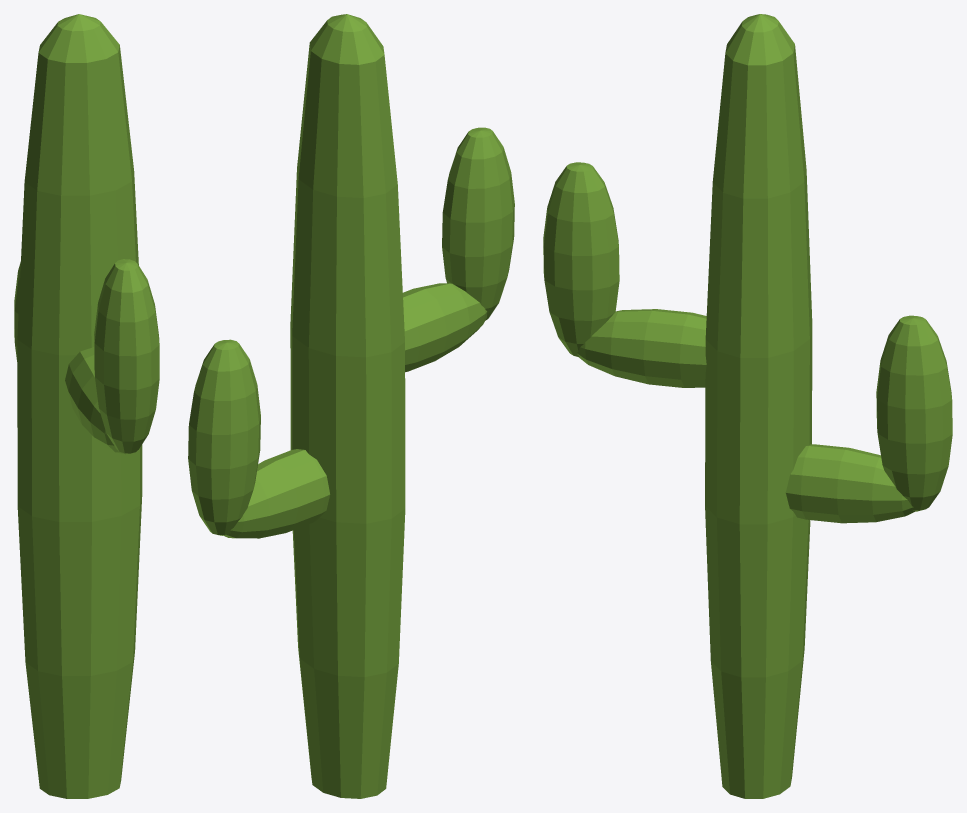
The picture shows the model from 3 angles, left to right: view 1: azimuth 30°, elevation 25°; view 2: azimuth 150°, elevation 25°; view 3: azimuth 270°, elevation 25°; orthographic projection.
Parts seen in each view (by area): view 1: node_MeshObject2076198720-PolyPaper9; view 2: node_MeshObject2076198720-PolyPaper9; view 3: node_MeshObject2076198720-PolyPaper9.
Part boxes in pixels (x1=…): node_MeshObject2076198720-PolyPaper9: x1=14, y1=14, x2=159, y2=798; node_MeshObject2076198720-PolyPaper9: x1=188, y1=14, x2=514, y2=798; node_MeshObject2076198720-PolyPaper9: x1=543, y1=14, x2=952, y2=798.
Bounding box in the file's own units: 0.4007 × 2.04 × 0.9844.
